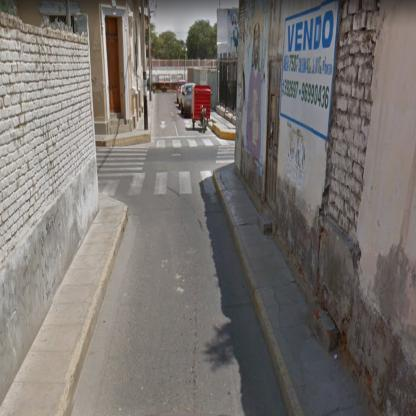Pista: (73, 87, 288, 414)
Vehiculo: (192, 84, 213, 134)
